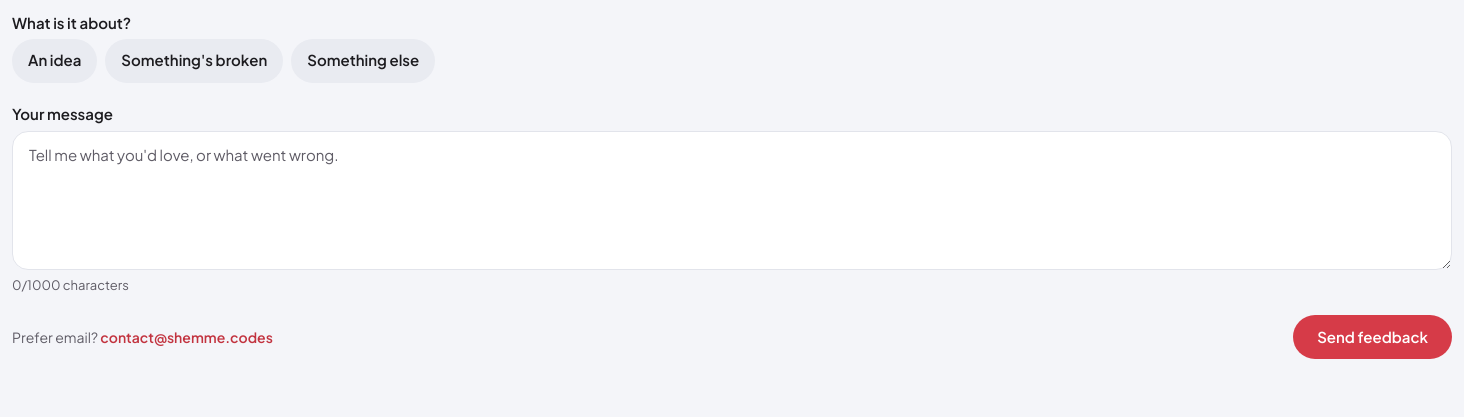
Test case: Help & feedback → Send feedback › asks for a type and a message first, and shows the server's limit message
The width and height of the screenshot is (1464, 417).
Click the button "Send feedback" at (1373, 337), box [1293,315,1452,359]
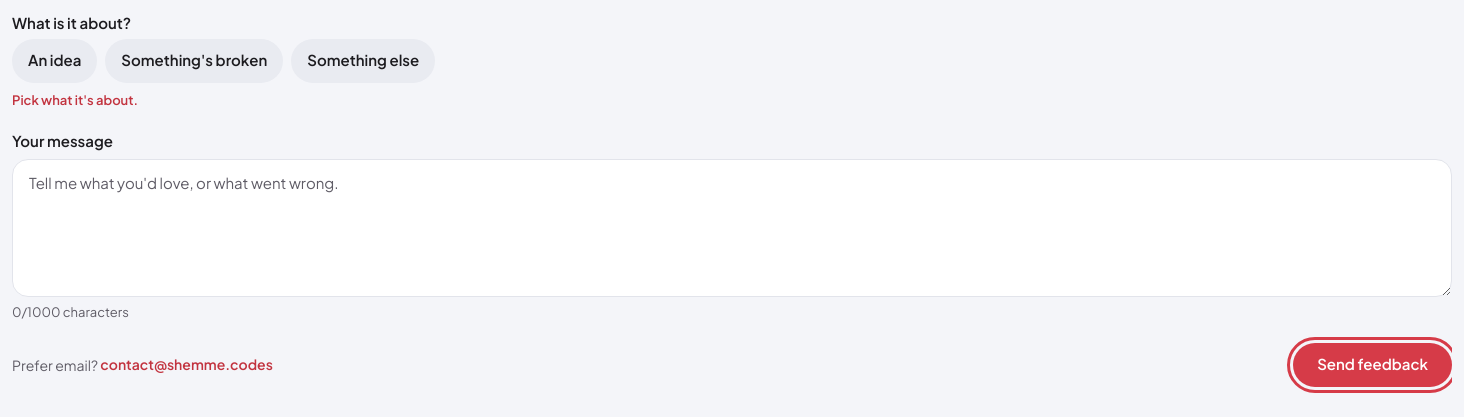
Now the text "Pick what it's about." is shown, box [11,90,138,108]
Click the radio button labelled "Something else" at (363, 60), box [291,38,435,82]
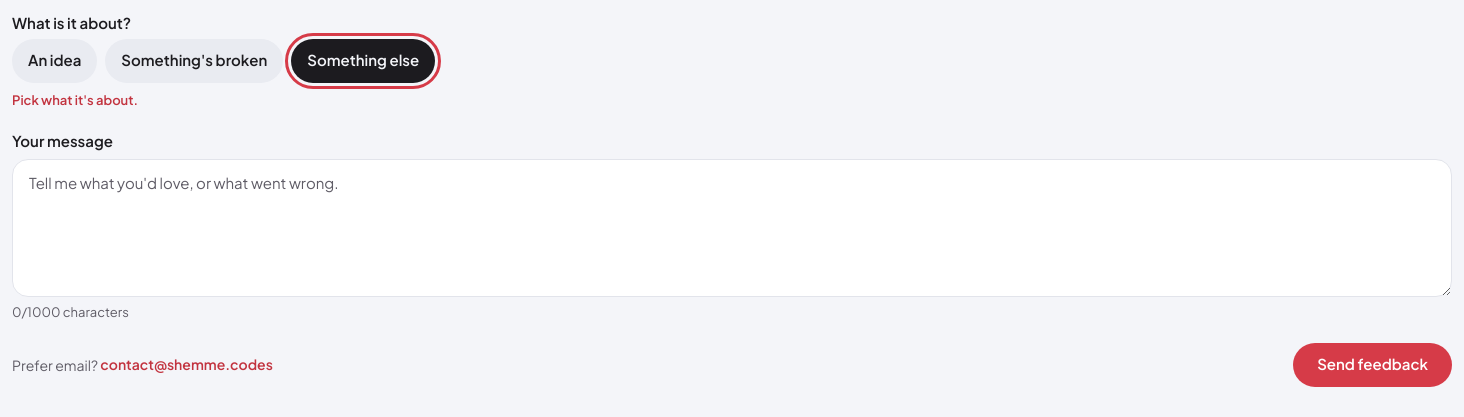
Click the button "Send feedback" at (1373, 364), box [1293,342,1452,386]
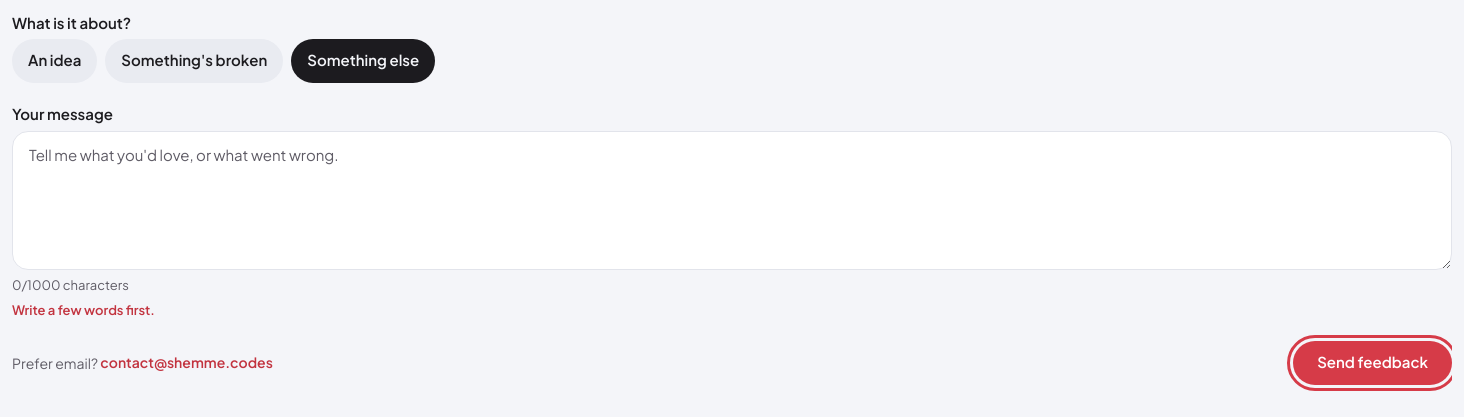
Type "Hi" into the text box labelled "Your message" at (732, 200), box [12,131,1452,270]
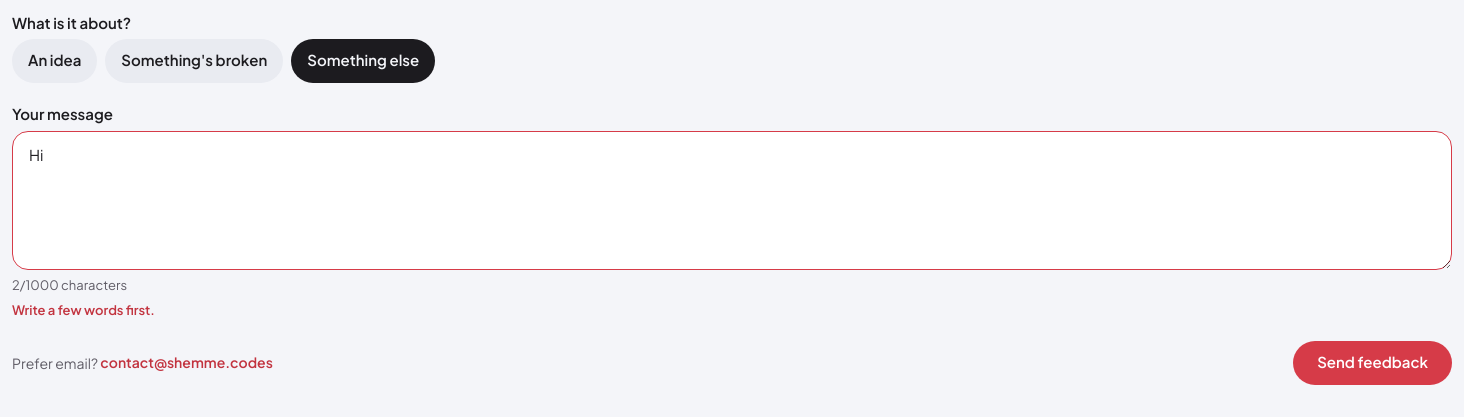
Click the button "Send feedback" at (1373, 362), box [1293,340,1452,384]
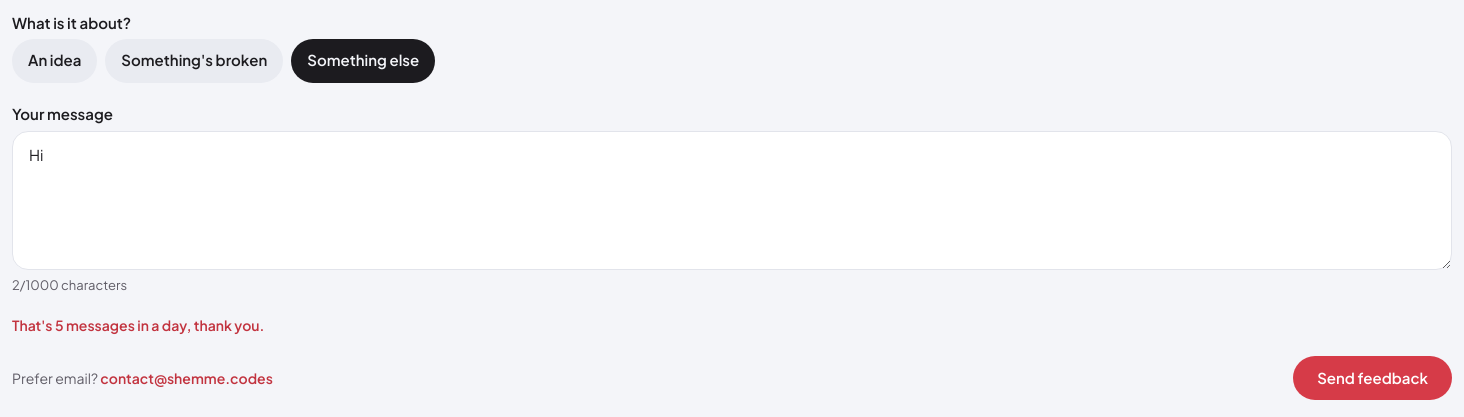
Now the message shows "That's 5 messages in a day", box [12,316,264,334]
